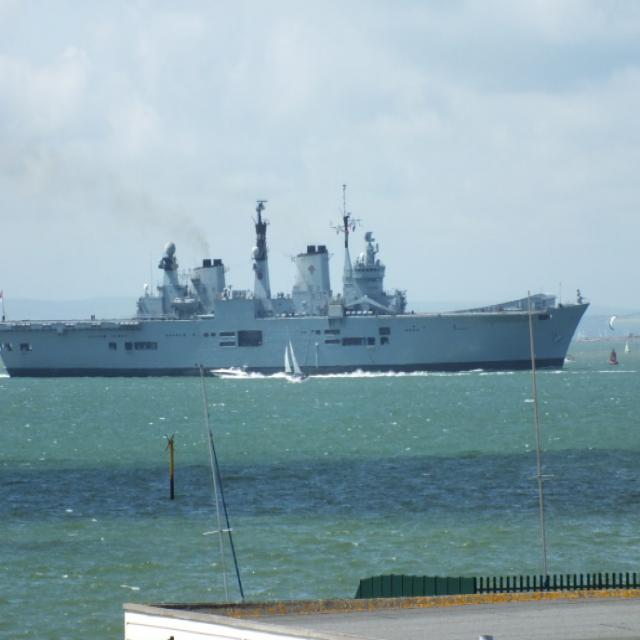Portanaves: (1, 180, 592, 383)
